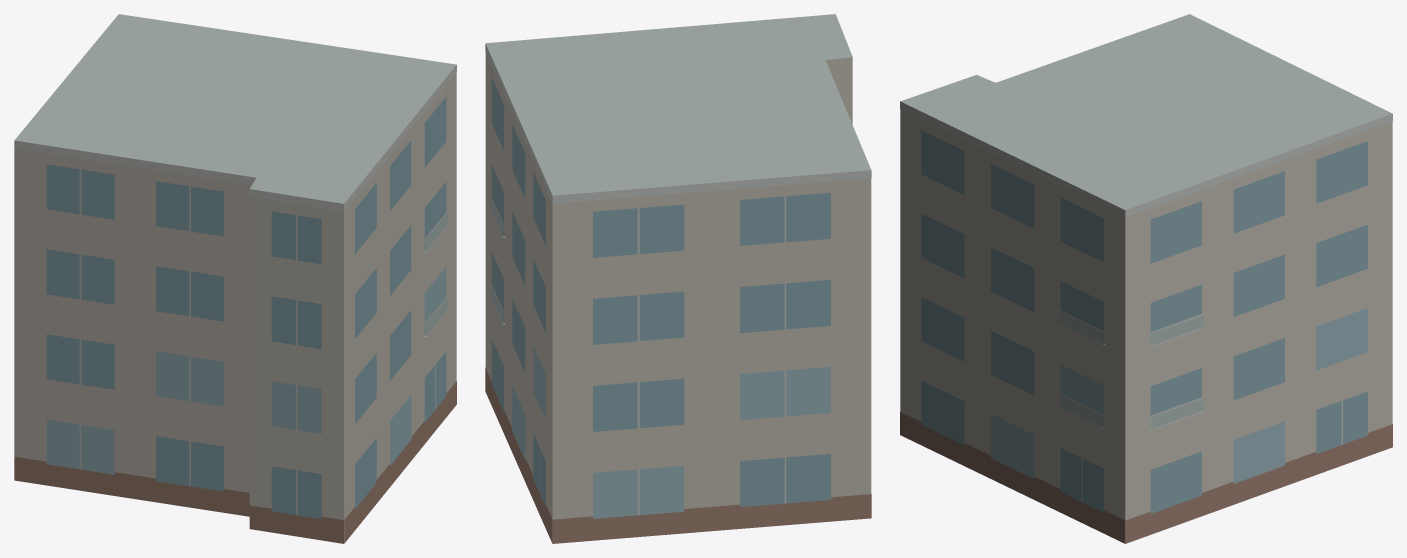
File: survey-upis-32676116.glb
3 renders of one model, left to right at view 1: azimuth 30°, elevation 25°; view 2: azimuth 150°, elevation 25°; view 3: azimuth 270°, elevation 25°, orthographic. The views are drawn at different scales.
Parts seen in each view (by area): view 1: survey-upis-32676116.tmp; view 2: survey-upis-32676116.tmp; view 3: survey-upis-32676116.tmp.
Boxes of the visible parts, box(x1,y1,x2,y2) form: survey-upis-32676116.tmp: box(14, 14, 456, 543); survey-upis-32676116.tmp: box(485, 14, 871, 543); survey-upis-32676116.tmp: box(900, 14, 1392, 543).
Bounding box in the file's own units: 13.31 × 10.55 × 14.12.
